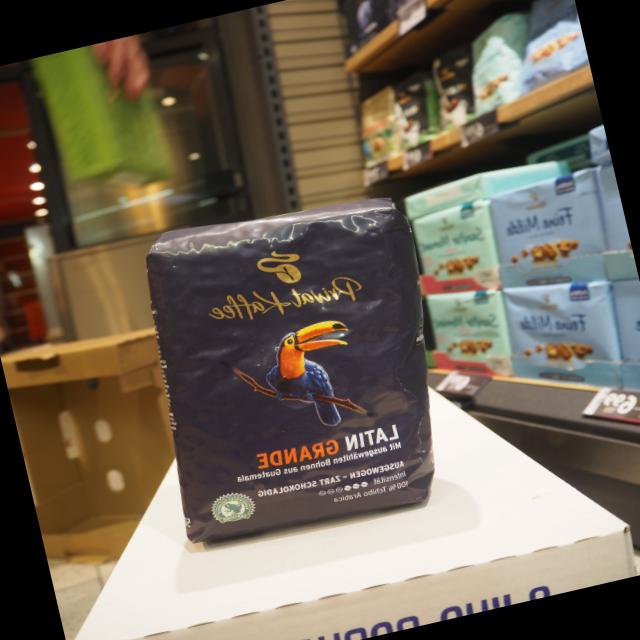LG Bohne: (127, 181, 441, 561)
